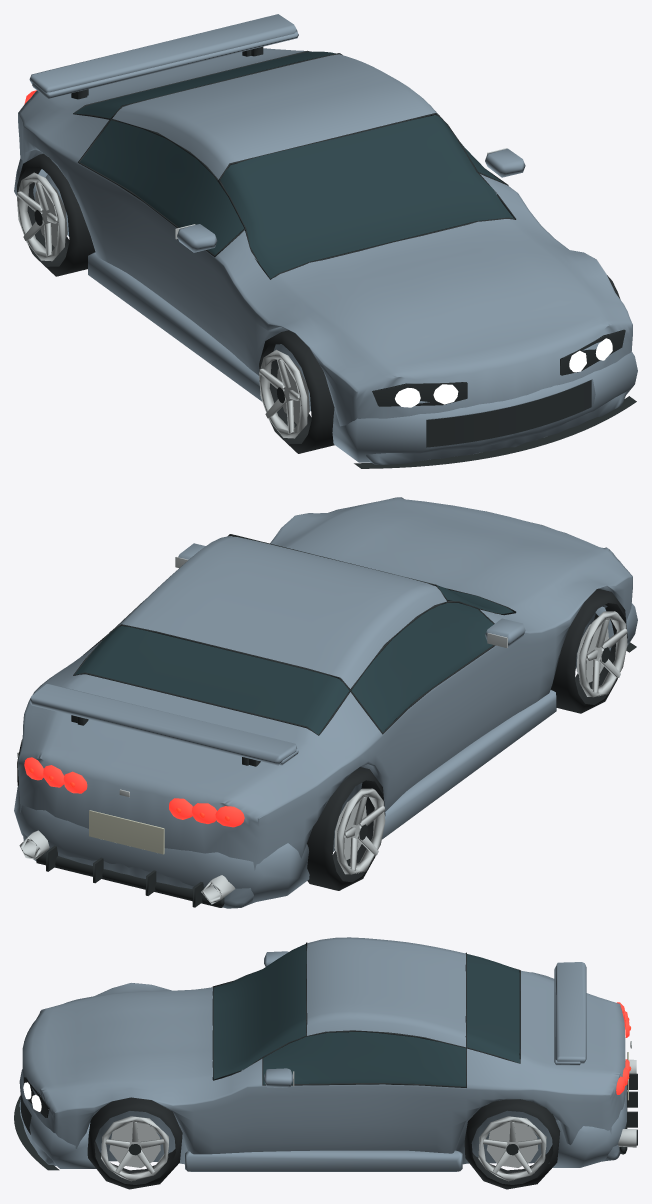
Rendered from silex-c1.glb.
The picture shows the model from 3 angles, top to bottom: view 1: azimuth 30°, elevation 25°; view 2: azimuth 150°, elevation 25°; view 3: azimuth 270°, elevation 25°; orthographic projection. The views are drawn at different scales.
Visible parts, largest first — view 1: scocca, cofano, cristallo_ant, tetto, porta_sx, cristallo_sx, paraurti_ant, spoiler, minigonna_sx, griglia, ruota_ant_sx_gomma, portellone (+16 smaller); view 2: scocca, tetto, cofano, portellone, cristallo_post, porta_sx, paraurti_post, cristallo_sx, spoiler, minigonna_sx, ruota_post_sx_gomma, ruota_ant_sx_gomma (+14 smaller); view 3: scocca, cofano, tetto, porta_dx, cristallo_dx, cristallo_ant, portellone, minigonna_dx, cristallo_post, spoiler, ruota_ant_dx_gomma, ruota_post_dx_gomma (+13 smaller).
Part boxes in pixels (box(x1,y1,x2,y2)): scocca: box(18, 94, 632, 464); cofano: box(271, 219, 608, 371); cristallo_ant: box(220, 115, 513, 278); tetto: box(112, 54, 438, 179); porta_sx: box(78, 163, 229, 350); cristallo_sx: box(80, 120, 244, 254); paraurti_ant: box(332, 351, 637, 462); spoiler: box(29, 14, 297, 92); minigonna_sx: box(88, 252, 261, 401); griglia: box(426, 380, 591, 447); ruota_ant_sx_gomma: box(259, 330, 334, 453); portellone: box(34, 48, 312, 113); scocca: box(18, 497, 632, 908); tetto: box(117, 536, 446, 688); cofano: box(283, 500, 608, 612); portellone: box(34, 674, 318, 806); cristallo_post: box(75, 626, 349, 734); porta_sx: box(375, 640, 518, 811); paraurti_post: box(14, 785, 309, 902); cristallo_sx: box(351, 603, 493, 732); spoiler: box(29, 684, 296, 765); minigonna_sx: box(382, 690, 556, 839); ruota_post_sx_gomma: box(307, 767, 385, 890); ruota_ant_sx_gomma: box(550, 588, 627, 713); scocca: box(22, 972, 625, 1165); cofano: box(44, 987, 212, 1093); tetto: box(307, 937, 465, 1047); porta_dx: box(247, 1084, 466, 1164); cristallo_dx: box(263, 1032, 465, 1086); cristallo_ant: box(213, 944, 306, 1079); portellone: box(520, 970, 625, 1079); minigonna_dx: box(185, 1150, 462, 1171); cristallo_post: box(467, 954, 519, 1063); spoiler: box(555, 962, 586, 1063); ruota_ant_dx_gomma: box(87, 1097, 182, 1189); ruota_post_dx_gomma: box(464, 1099, 560, 1189).
Bounding box in the file's own units: 2.12 × 1.22 × 4.4.
